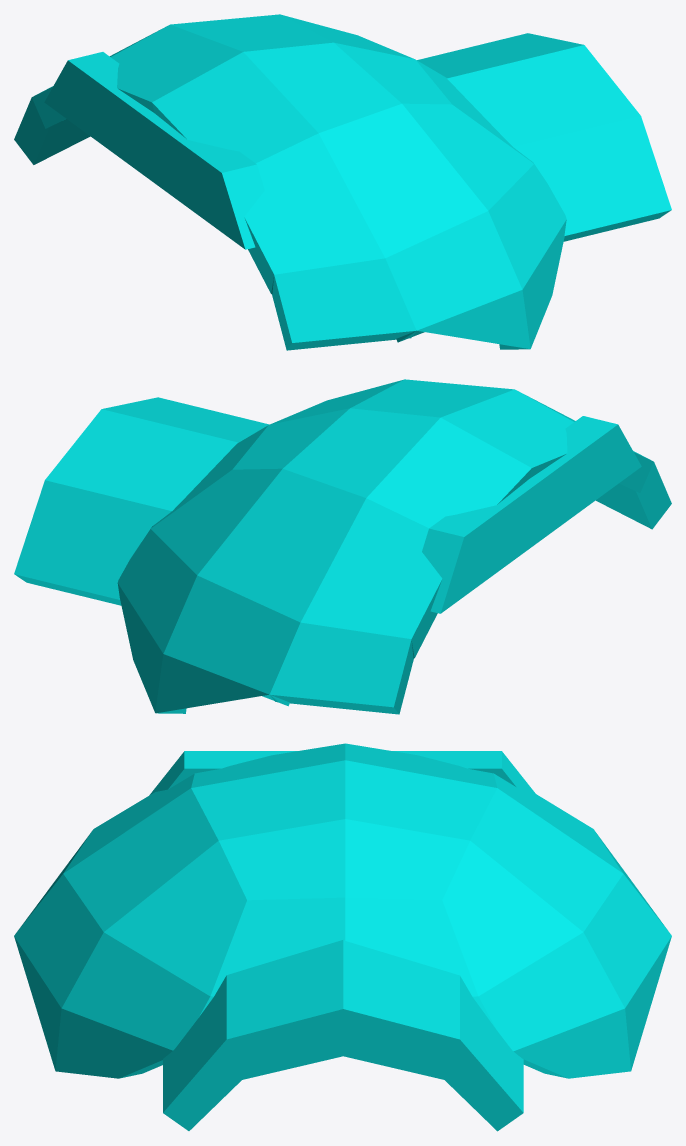
The model's file is SM_Bld_Roof_Thatch_Preset_Round_03_Collision.fbx.
The picture shows the model from 3 angles, top to bottom: view 1: azimuth 30°, elevation 25°; view 2: azimuth 150°, elevation 25°; view 3: azimuth 270°, elevation 25°; orthographic projection. The views are drawn at different scales.
Parts seen in each view (by area): view 1: SM_Bld_Roof_Thatch_Preset_Round_03_Collision; view 2: SM_Bld_Roof_Thatch_Preset_Round_03_Collision; view 3: SM_Bld_Roof_Thatch_Preset_Round_03_Collision.
Boxes of the visible parts, x1=… form: SM_Bld_Roof_Thatch_Preset_Round_03_Collision: x1=14, y1=14, x2=671, y2=350; SM_Bld_Roof_Thatch_Preset_Round_03_Collision: x1=14, y1=379, x2=671, y2=714; SM_Bld_Roof_Thatch_Preset_Round_03_Collision: x1=14, y1=743, x2=671, y2=1131.
Bounding box in the file's own units: 470 × 240 × 591.
